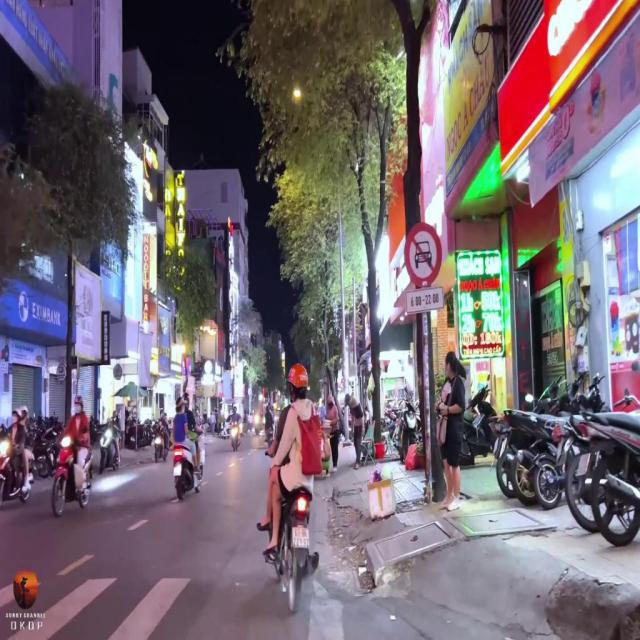cam_o_to: (403, 222, 442, 287)
khac: (405, 286, 444, 314)
